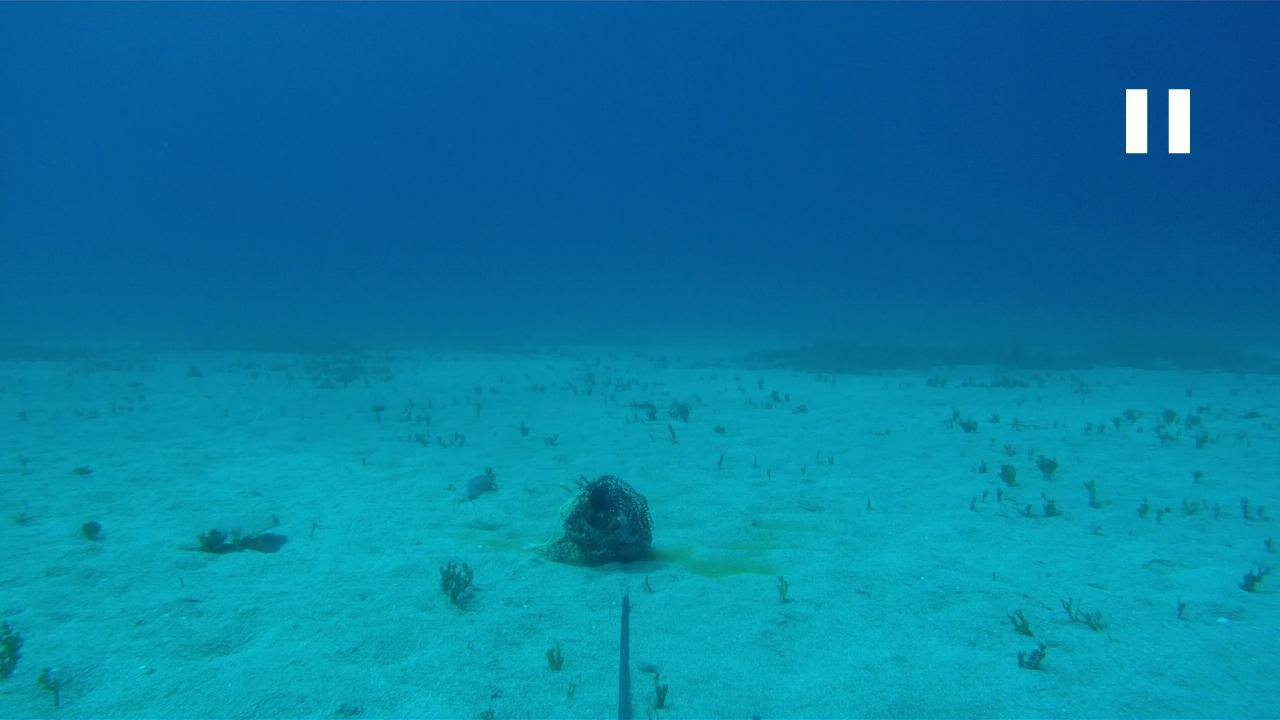bothus: (174, 510, 287, 550)
